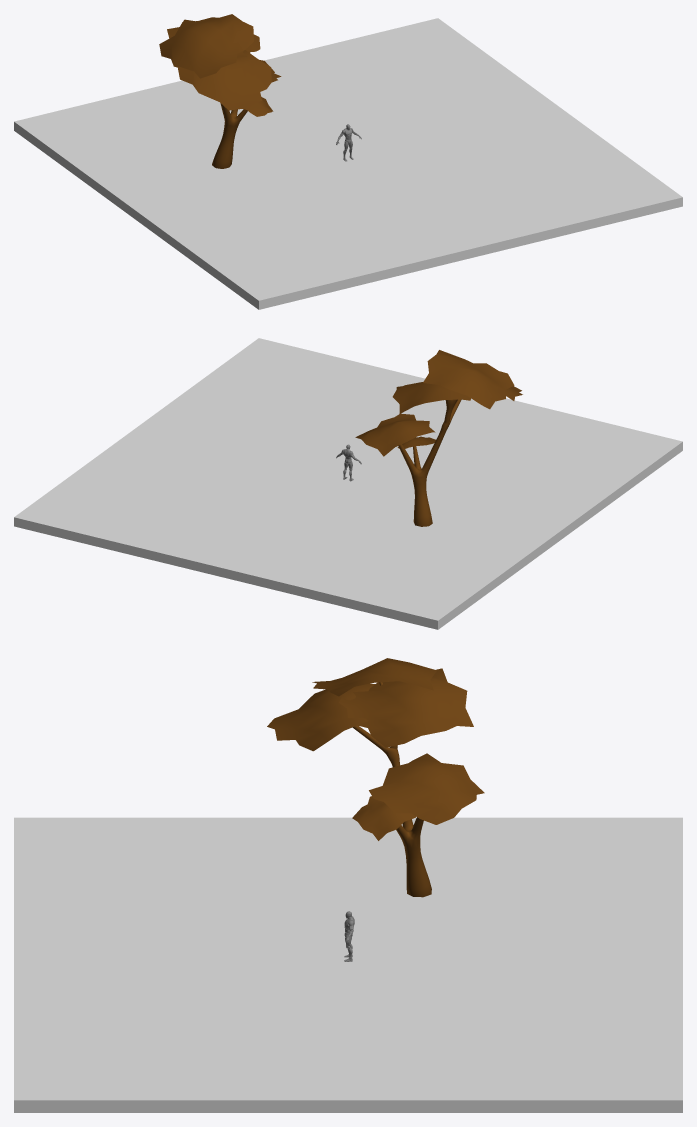
File: Tree1.fbx
The picture shows the model from 3 angles, top to bottom: view 1: azimuth 30°, elevation 25°; view 2: azimuth 150°, elevation 25°; view 3: azimuth 270°, elevation 25°; orthographic projection. The views are drawn at different scales.
Parts seen in each view (by area): view 1: Cube.001, Plane.004; view 2: Cube.001, Plane.004; view 3: Cube.001, Plane.004.
Part boxes in pixels (box(x1,y1,x2,y2)): Cube.001: box(14, 18, 682, 309); Plane.004: box(159, 14, 281, 168); Cube.001: box(14, 338, 682, 629); Plane.004: box(355, 350, 522, 526); Cube.001: box(14, 817, 682, 1112); Plane.004: box(267, 658, 484, 897).
Size of the model in its own units: 2367 by 884 by 2367.
